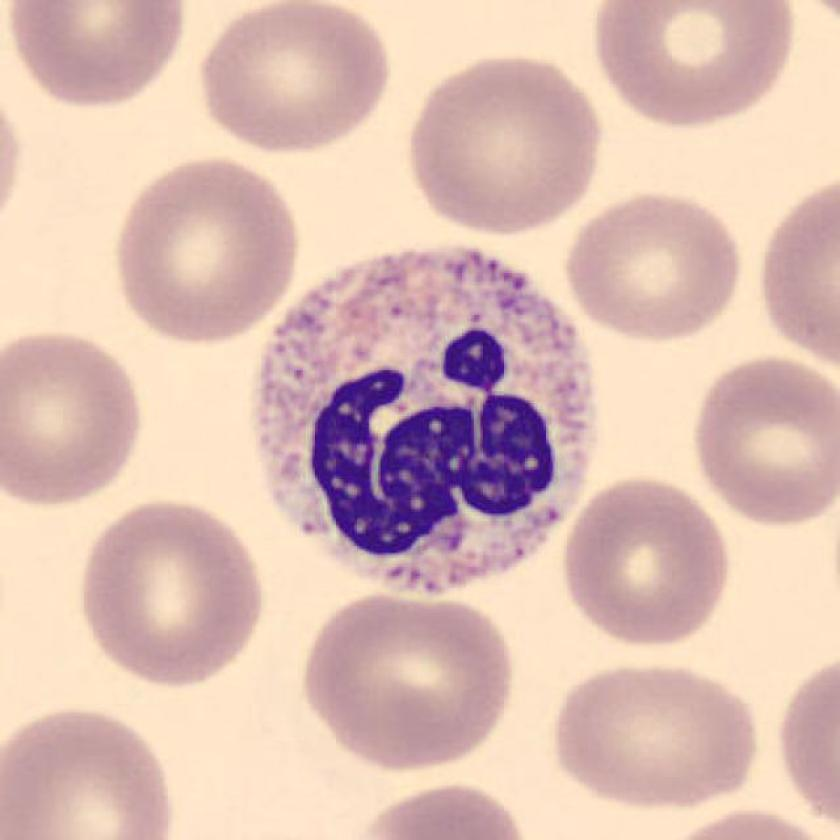neutrophil: (256, 249, 598, 588)
